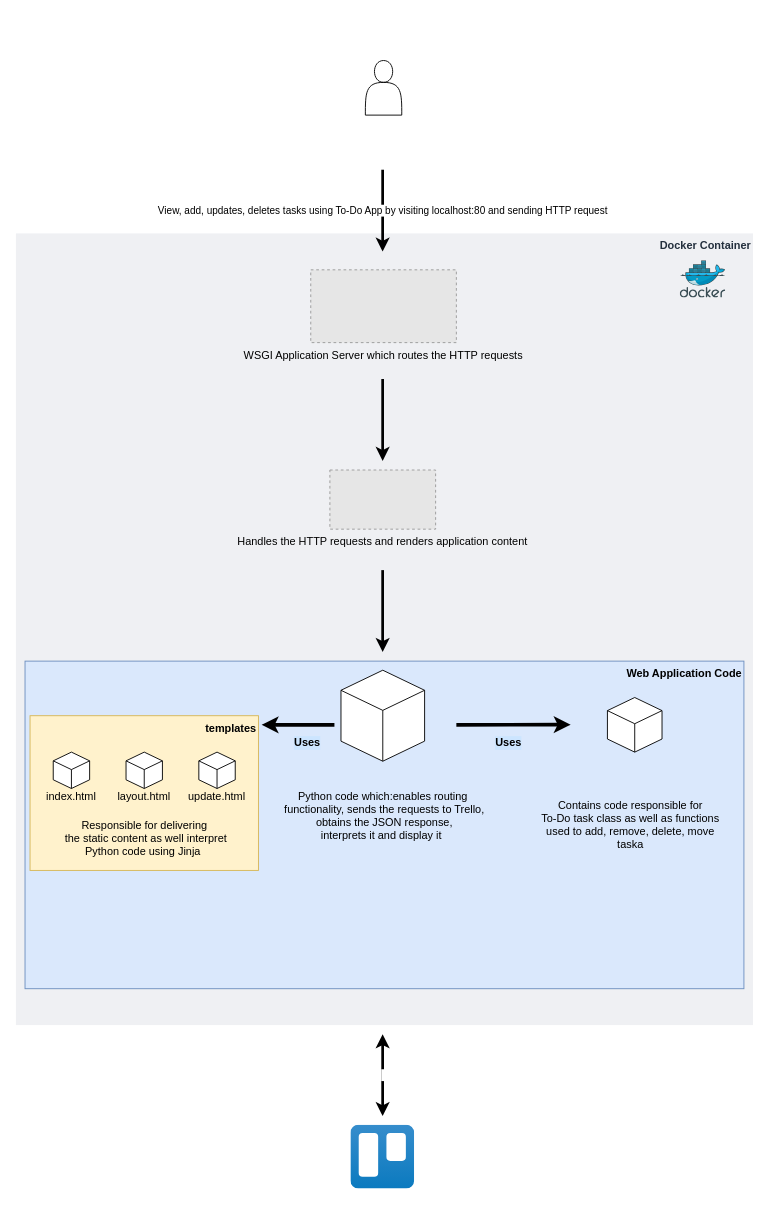
The diagram is 768 pixels wide and 1223 high, and some of its shapes have lost their labels. Grey dashed boxes stand in for pictures. Here are the shapes that lost their labels. From the top down, the box of each, then its label:
(364, 60, 402, 115): To-Do App User
(340, 669, 425, 761): app.py
(607, 697, 662, 752): trello_items.py
(350, 1125, 414, 1188): Trello
